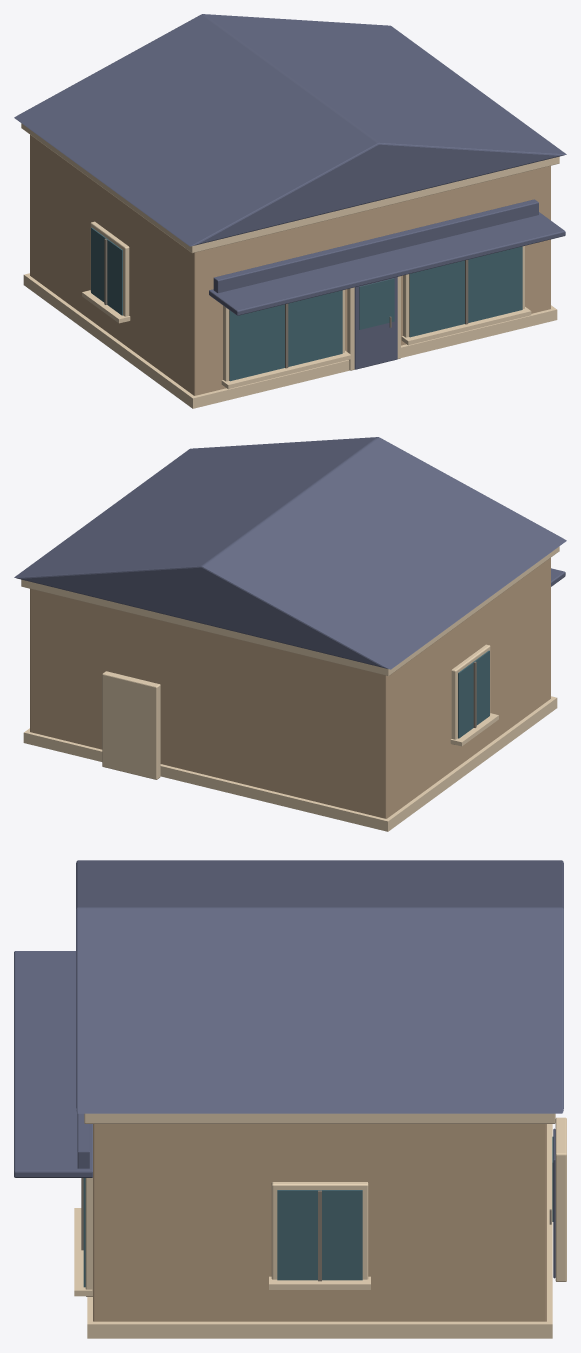
The model's file is small-shop.glb.
3 views of the same model, one above another, from view 1: azimuth 30°, elevation 25°; view 2: azimuth 150°, elevation 25°; view 3: azimuth 270°, elevation 25° (orthographic). The views are drawn at different scales.
Parts seen in each view (by area): view 1: small-shop; view 2: small-shop; view 3: small-shop.
Part boxes in pixels (left/top/right/bottom): small-shop: left=14, top=14, right=566, bottom=408; small-shop: left=14, top=437, right=566, bottom=831; small-shop: left=14, top=860, right=566, bottom=1338.
Size of the model in its own units: 10.64 by 5.99 by 9.74.
